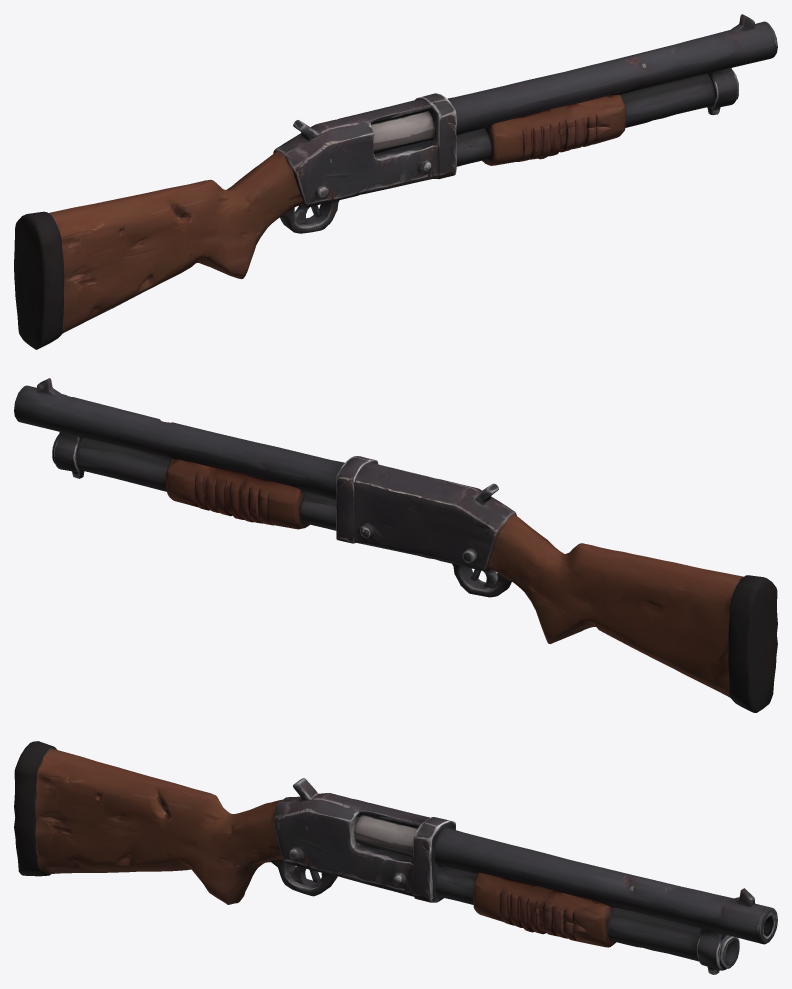
File: weapon_shotgun_pompovyy_idle.glb
The picture shows the model from 3 angles, top to bottom: view 1: azimuth 30°, elevation 25°; view 2: azimuth 150°, elevation 25°; view 3: azimuth 330°, elevation 25°; orthographic projection.
Parts seen in each view (by area): view 1: tripo_node_8f87b97d-bf5e-4fdd-881d-ed822b037215; view 2: tripo_node_8f87b97d-bf5e-4fdd-881d-ed822b037215; view 3: tripo_node_8f87b97d-bf5e-4fdd-881d-ed822b037215.
Part boxes in pixels (<box>): tripo_node_8f87b97d-bf5e-4fdd-881d-ed822b037215: <box>14,14,777,349</box>; tripo_node_8f87b97d-bf5e-4fdd-881d-ed822b037215: <box>14,378,777,712</box>; tripo_node_8f87b97d-bf5e-4fdd-881d-ed822b037215: <box>14,741,777,974</box>.
Bounding box in the file's own units: 0.9999 × 0.2048 × 0.0726.
Materials: 1 (1 with a texture image).
